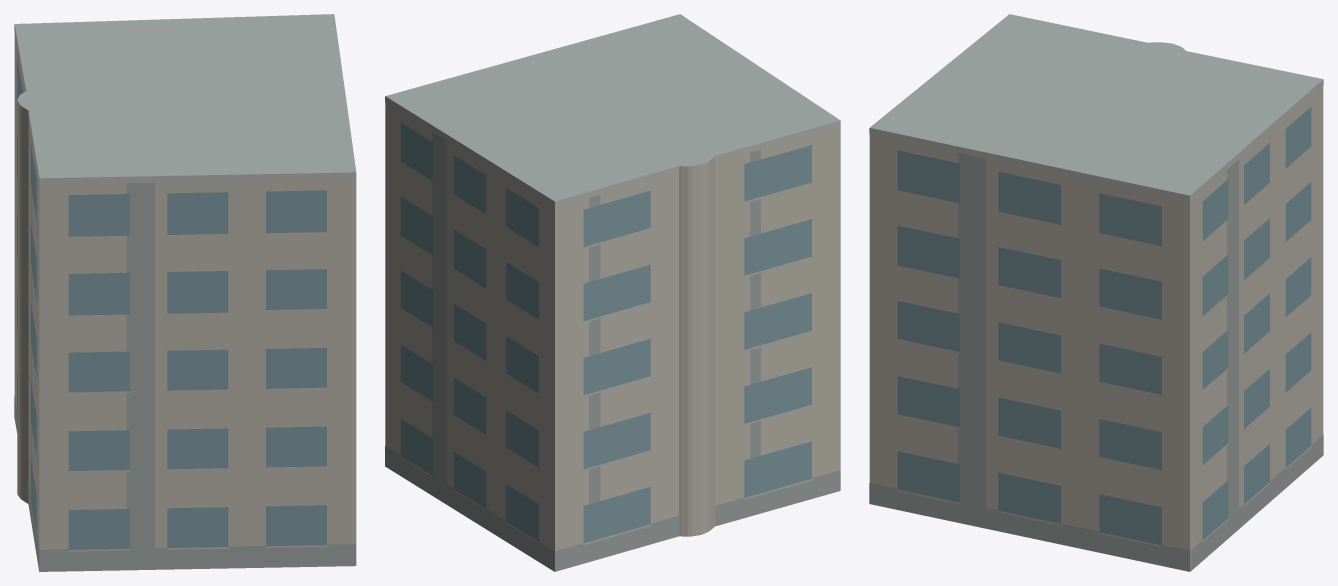
Rendered from survey-upis-32854337.glb.
3 views of the same model, side by side, from view 1: azimuth 30°, elevation 25°; view 2: azimuth 150°, elevation 25°; view 3: azimuth 270°, elevation 25° (orthographic). The views are drawn at different scales.
Visible parts, largest first — view 1: survey-upis-32854337.tmp; view 2: survey-upis-32854337.tmp; view 3: survey-upis-32854337.tmp.
Part boxes in pixels (left/top/right/bottom): survey-upis-32854337.tmp: left=14, top=14, right=356, bottom=571; survey-upis-32854337.tmp: left=385, top=14, right=840, bottom=571; survey-upis-32854337.tmp: left=869, top=14, right=1323, bottom=571.
Size of the model in its own units: 14.92 by 14.4 by 15.76.
